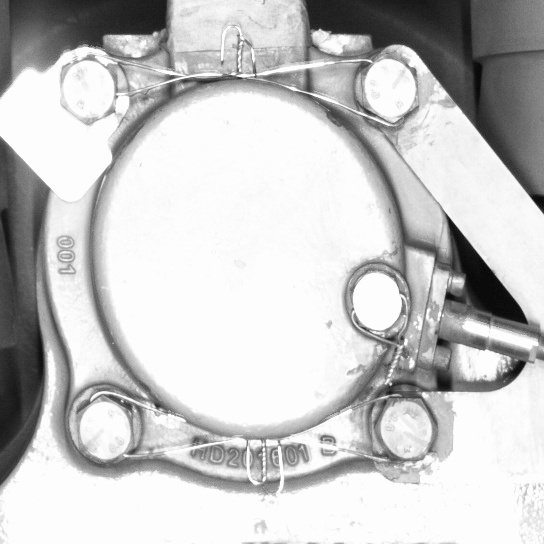IronWire: (51, 45, 426, 133), (63, 389, 444, 470)
Screw: (337, 255, 417, 344), (63, 387, 141, 474), (347, 50, 427, 130), (52, 47, 126, 131), (368, 387, 444, 468)
